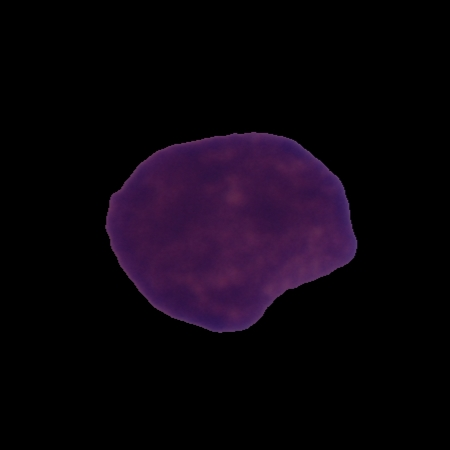ALL: (101, 126, 361, 337)
